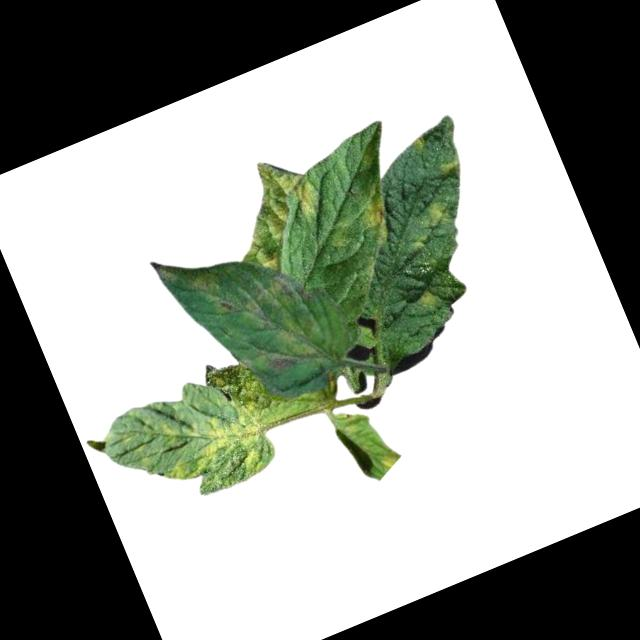Leaf_Mold: (210, 151, 334, 283), (220, 262, 339, 387), (155, 388, 281, 503), (149, 228, 247, 315), (354, 187, 402, 248), (287, 174, 330, 220), (421, 196, 454, 229), (412, 284, 440, 311)
